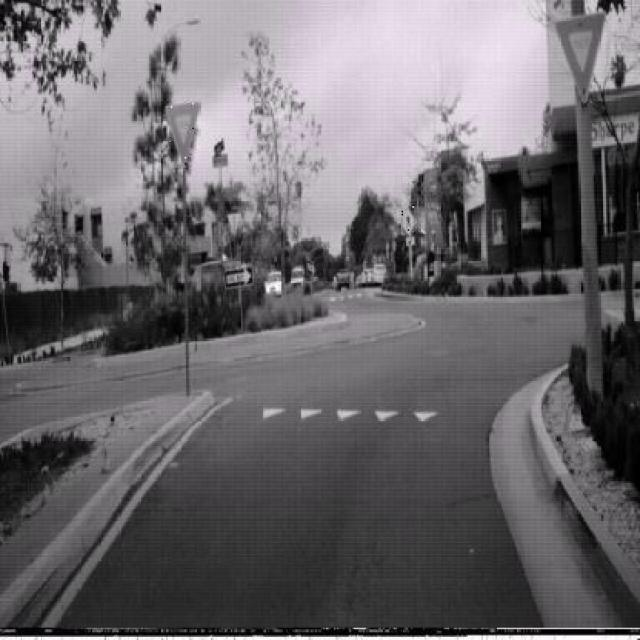pedestrianCrossing: (403, 207, 419, 236)
yield: (554, 9, 605, 104), (164, 102, 202, 169)
